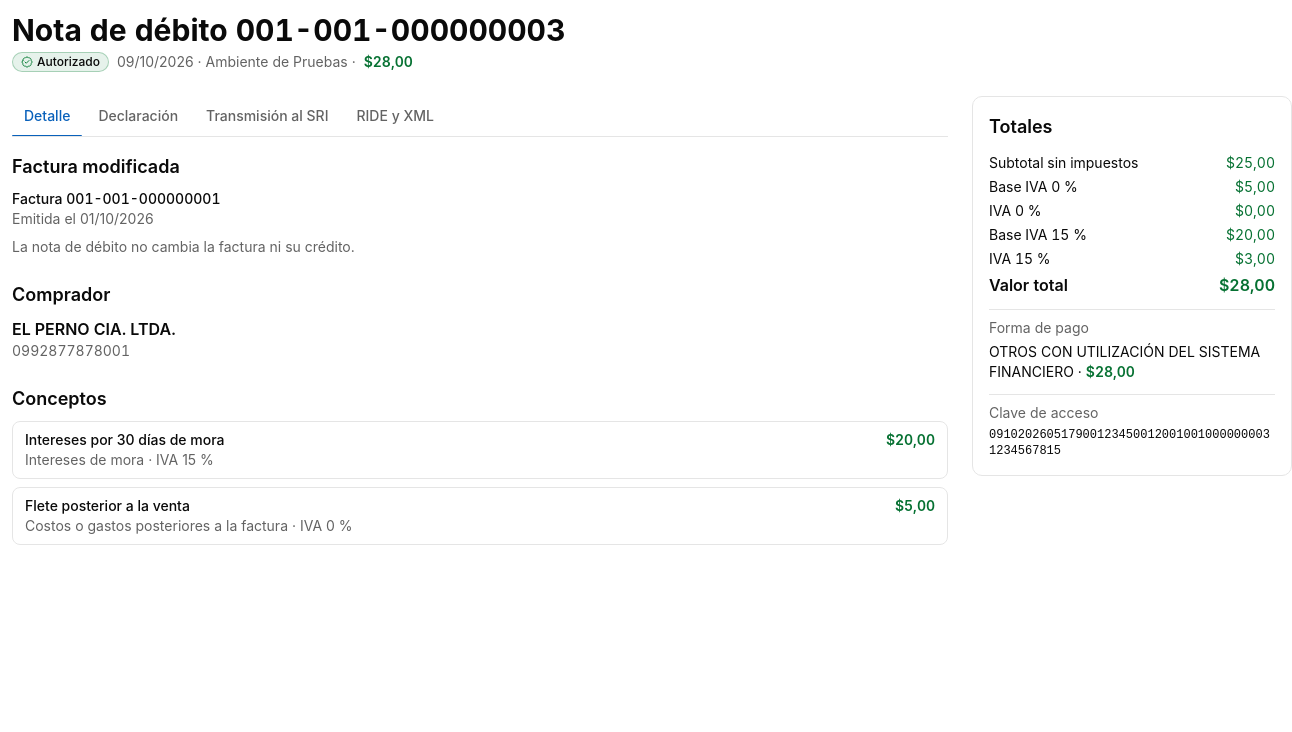
Test case: detalle de la nota de débito › muestra la factura, los conceptos, los impuestos por tratamiento, la forma de pago y la declaración del usuario
The width and height of the screenshot is (1292, 732).
Check: the heading "Nota de débito 001-001-000000003" is shown, box x1=12 y1=12 x2=565 y2=48
Check: the text "Intereses por 30 días de mora" is shown, box x1=25 y1=430 x2=224 y2=450
Click the tab "Declaración" at (138, 116), box x1=86 y1=96 x2=190 y2=136
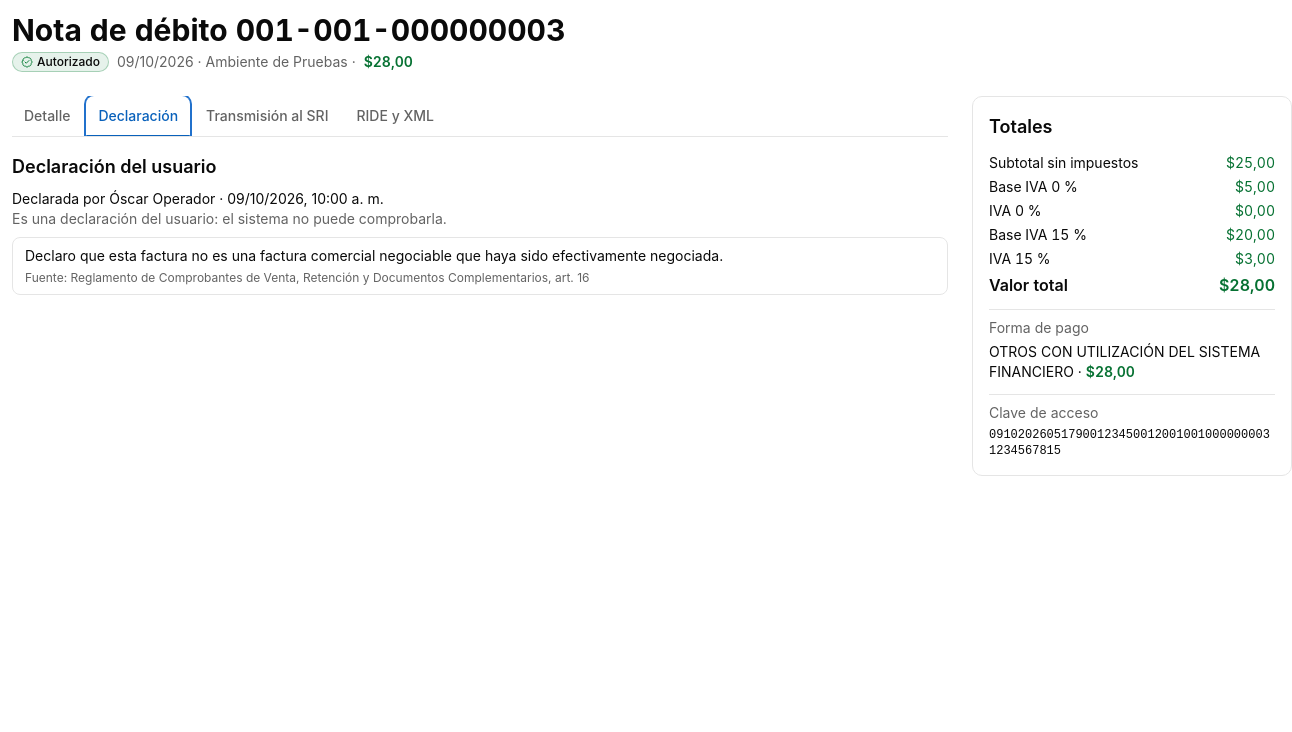
Check: the text "Declarada por Óscar Operador · 09/10/2026, 10:00 a. m." is shown, box x1=12 y1=190 x2=384 y2=207
Check: the text "el sistema no puede comprobarla" is shown, box x1=12 y1=210 x2=447 y2=227
Check: the text "Declaro que esta factura no es una factura comercial negociable que haya sido efectivamente negociada." is shown, box x1=25 y1=247 x2=723 y2=264
Click the tab "Transmisión al SRI" at (267, 116), box x1=194 y1=96 x2=340 y2=136
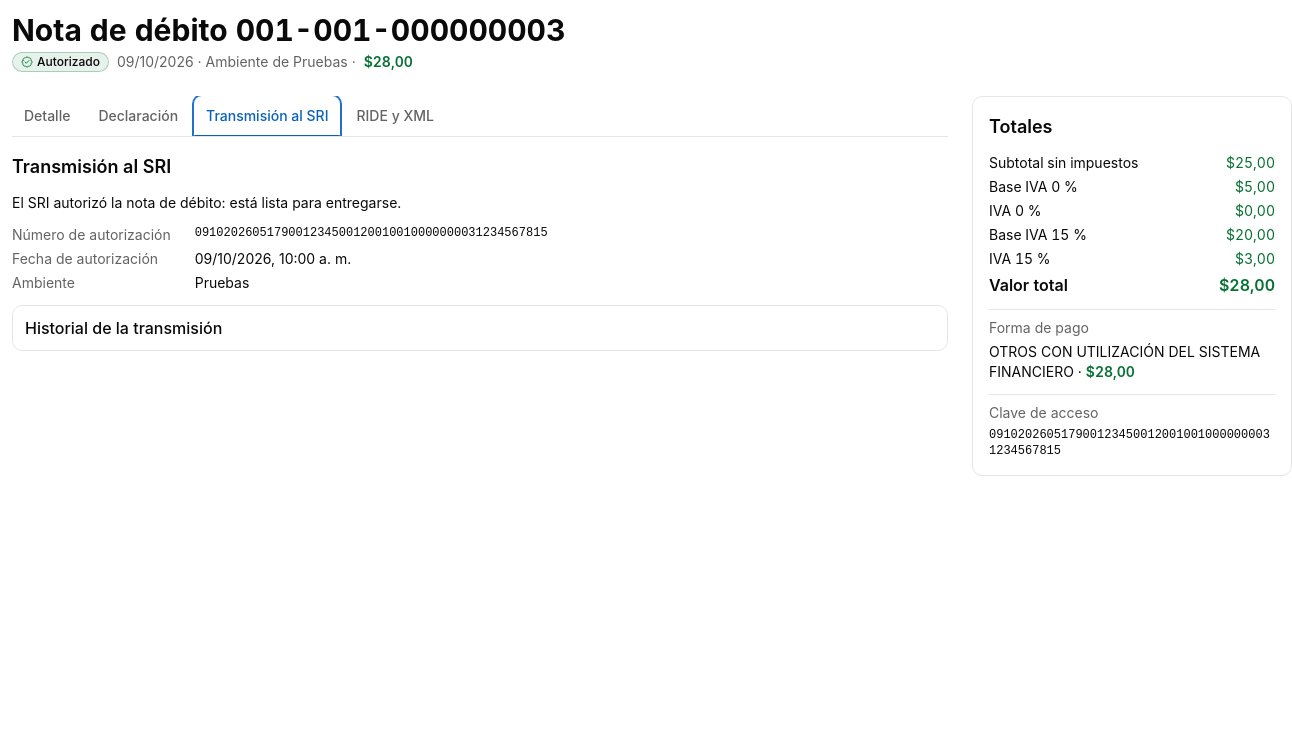
Check: the text "El SRI autorizó la nota de débito: está lista para entregarse." is shown, box x1=12 y1=194 x2=401 y2=211
Click the tab "RIDE y XML" at (395, 116), box x1=344 y1=96 x2=446 y2=136
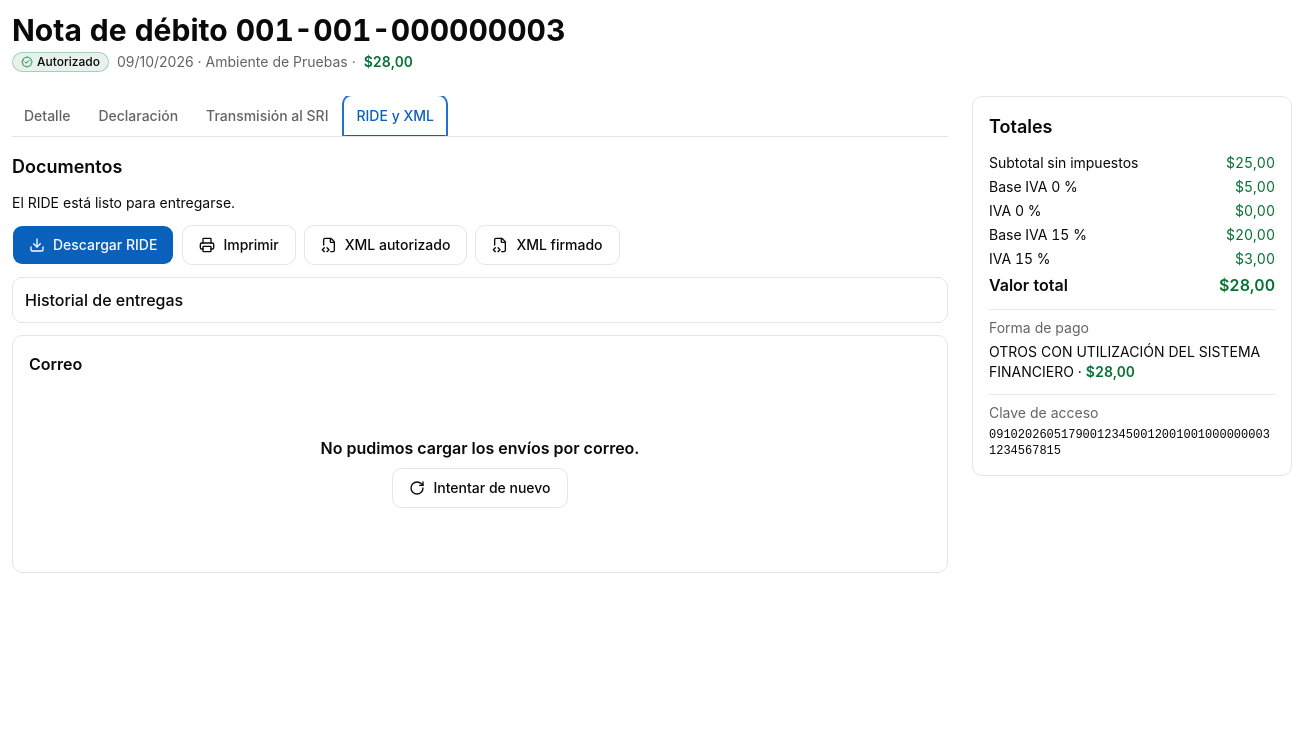
Check: the button "Descargar RIDE" is shown, box x1=12 y1=225 x2=174 y2=265
